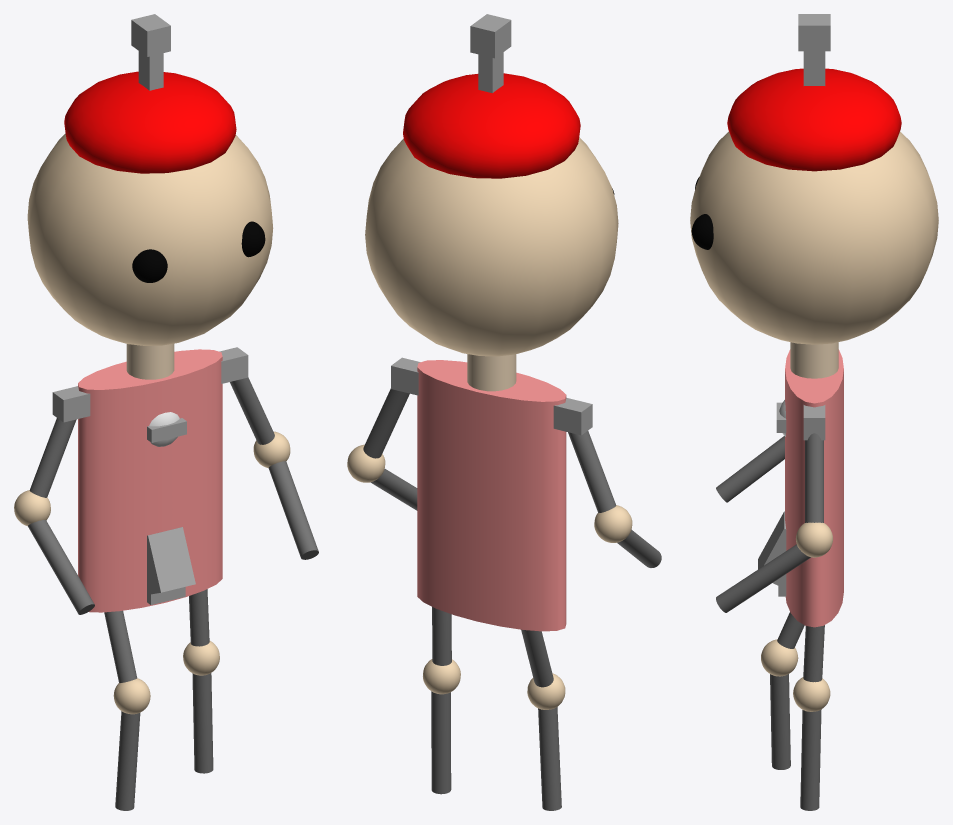
Rendered from robot.fbx.
3 renders of one model, left to right at view 1: azimuth 30°, elevation 25°; view 2: azimuth 150°, elevation 25°; view 3: azimuth 270°, elevation 25°, orthographic. The views are drawn at different scales.
Visible parts, largest first — view 1: pSphere1, pasted__pCylinder1 (×2), pasted__pSphere1 (×2), pasted__pasted__pCylinder1 (×2), pasted__pasted__pasted__pasted__pCylinder1 (×2), pasted__pCube1 (×2), pasted__pasted__pasted__pCylinder1 (×2), pasted__pasted__pasted__pasted__pasted__pCylinder1, pasted__pasted__pSphere1 (×2), pasted__pasted__pCube1 (×2), pasted__pasted__pasted__pSphere1 (×2), pCylinder1 (+4 smaller); view 2: pSphere1, pasted__pCylinder1 (×2), pasted__pSphere1 (×2), pasted__pasted__pasted__pasted__pCylinder1 (×2), pasted__pasted__pCylinder1 (×2), pasted__pasted__pasted__pasted__pasted__pCylinder1, pasted__pasted__pasted__pCylinder1 (×2), pCylinder1, pasted__pasted__pasted__pasted__pCube1, pasted__pasted__pCube1, pasted__pasted__pasted__pSphere1, pasted__pasted__pSphere1 (+3 smaller); view 3: pSphere1, pasted__pSphere1, pasted__pCylinder1, pasted__pasted__pCylinder1 (×2), pasted__pasted__pasted__pCylinder1 (×2), pasted__pasted__pasted__pasted__pCylinder1 (×2), pasted__pasted__pasted__pasted__pasted__pCylinder1, pasted__pasted__pasted__pSphere1 (×2), pCylinder1, pasted__pCube1 (×2), pasted__pasted__pasted__pasted__pCube1, pasted__pasted__pSphere1 (+2 smaller).
Boxes of the visible parts, x1=… form: pSphere1: x1=27, y1=133, x2=273, y2=345; pasted__pCylinder1 (×2): x1=29, y1=349, x2=222, y2=612; pasted__pSphere1 (×2): x1=14, y1=71, x2=236, y2=525; pasted__pasted__pCylinder1 (×2): x1=28, y1=377, x2=274, y2=614; pasted__pasted__pasted__pasted__pCylinder1 (×2): x1=104, y1=610, x2=213, y2=773; pasted__pCube1 (×2): x1=147, y1=347, x2=248, y2=594; pasted__pasted__pasted__pCylinder1 (×2): x1=189, y1=461, x2=318, y2=646; pasted__pasted__pasted__pasted__pasted__pCylinder1: x1=115, y1=711, x2=140, y2=810; pasted__pasted__pSphere1 (×2): x1=132, y1=249, x2=290, y2=467; pasted__pasted__pCube1 (×2): x1=52, y1=386, x2=186, y2=442; pasted__pasted__pasted__pSphere1 (×2): x1=183, y1=221, x2=265, y2=675; pCylinder1: x1=126, y1=343, x2=174, y2=379; pSphere1: x1=365, y1=137, x2=618, y2=356; pasted__pCylinder1 (×2): x1=417, y1=360, x2=616, y2=631; pasted__pSphere1 (×2): x1=403, y1=73, x2=632, y2=542; pasted__pasted__pasted__pasted__pCylinder1 (×2): x1=431, y1=629, x2=553, y2=794; pasted__pasted__pCylinder1 (×2): x1=363, y1=388, x2=661, y2=567; pasted__pasted__pasted__pasted__pasted__pCylinder1: x1=538, y1=707, x2=561, y2=810; pasted__pasted__pasted__pCylinder1 (×2): x1=370, y1=469, x2=451, y2=665; pCylinder1: x1=467, y1=354, x2=516, y2=391; pasted__pasted__pasted__pasted__pCube1: x1=470, y1=14, x2=511, y2=58; pasted__pasted__pCube1: x1=553, y1=397, x2=592, y2=435; pasted__pasted__pasted__pSphere1: x1=423, y1=659, x2=460, y2=694; pasted__pasted__pSphere1: x1=347, y1=444, x2=385, y2=482; pSphere1: x1=690, y1=131, x2=938, y2=344; pasted__pSphere1: x1=727, y1=68, x2=901, y2=171; pasted__pCylinder1: x1=785, y1=349, x2=843, y2=627; pasted__pasted__pCylinder1 (×2): x1=716, y1=433, x2=823, y2=522; pasted__pasted__pasted__pCylinder1 (×2): x1=716, y1=544, x2=824, y2=682; pasted__pasted__pasted__pasted__pCylinder1 (×2): x1=777, y1=612, x2=821, y2=810; pasted__pasted__pasted__pasted__pasted__pCylinder1: x1=770, y1=674, x2=790, y2=769; pasted__pasted__pasted__pSphere1 (×2): x1=691, y1=214, x2=830, y2=711; pCylinder1: x1=790, y1=342, x2=838, y2=378; pasted__pCube1 (×2): x1=758, y1=405, x2=825, y2=585; pasted__pasted__pasted__pasted__pCube1: x1=798, y1=14, x2=830, y2=51; pasted__pasted__pSphere1: x1=796, y1=522, x2=832, y2=557.
Bounding box in the file's own units: 13.1 × 35.13 × 10.32.
